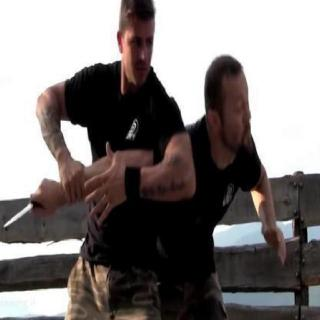knife: (1, 175, 62, 242)
